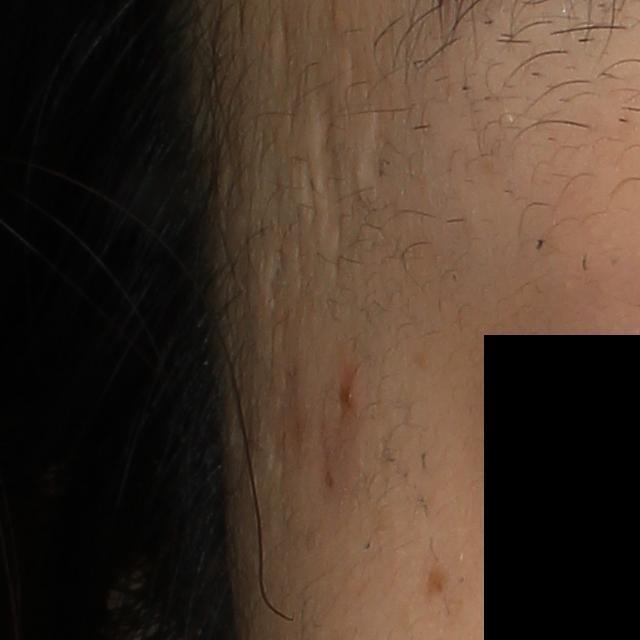papule: (336, 370, 368, 414)
